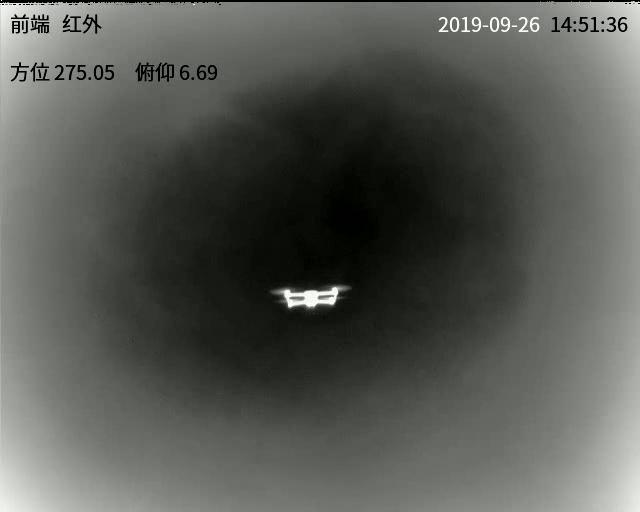DRONE: (275, 286, 346, 308)
